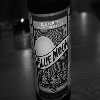beer: (27, 2, 74, 100)
